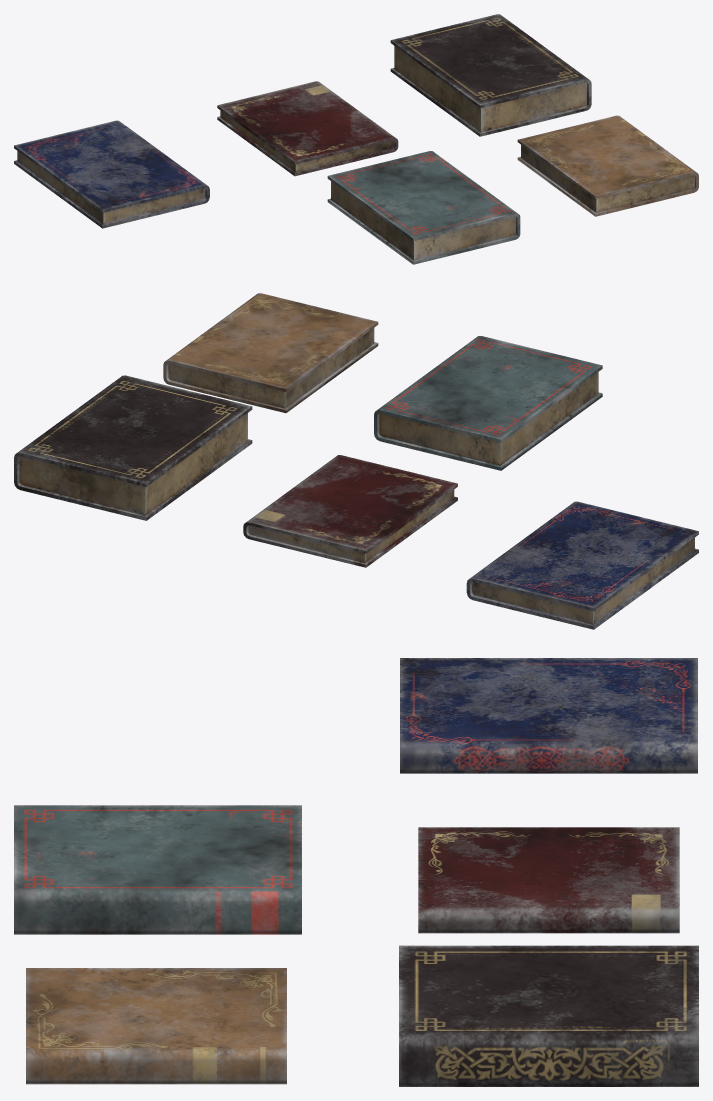
Rendered from old_books.glb.
3 renders of one model, top to bottom at view 1: azimuth 30°, elevation 25°; view 2: azimuth 150°, elevation 25°; view 3: azimuth 270°, elevation 25°, orthographic. The views are drawn at different scales.
Parts seen in each view (by area): view 1: Book01_low, Book03_low, Book04_low, Book02_low, Book05_low; view 2: Book01_low, Book03_low, Book04_low, Book02_low, Book05_low; view 3: Book01_low, Book03_low, Book04_low, Book02_low, Book05_low.
Part boxes in pixels (x1,y1,x2,y2): Book01_low: (390,14,591,136); Book03_low: (327,151,520,264); Book04_low: (14,120,209,228); Book02_low: (517,115,698,216); Book05_low: (217,81,398,176); Book01_low: (14,375,252,520); Book03_low: (374,336,602,470); Book04_low: (466,501,698,629); Book02_low: (163,293,378,413); Book05_low: (243,455,457,567); Book01_low: (399,945,698,1086); Book03_low: (14,805,301,934); Book04_low: (400,658,697,773); Book02_low: (26,968,286,1084); Book05_low: (418,827,679,933).
Size of the model in its own units: 1.2 by 0.0739 by 0.8685.
1 material, 1 textured.
